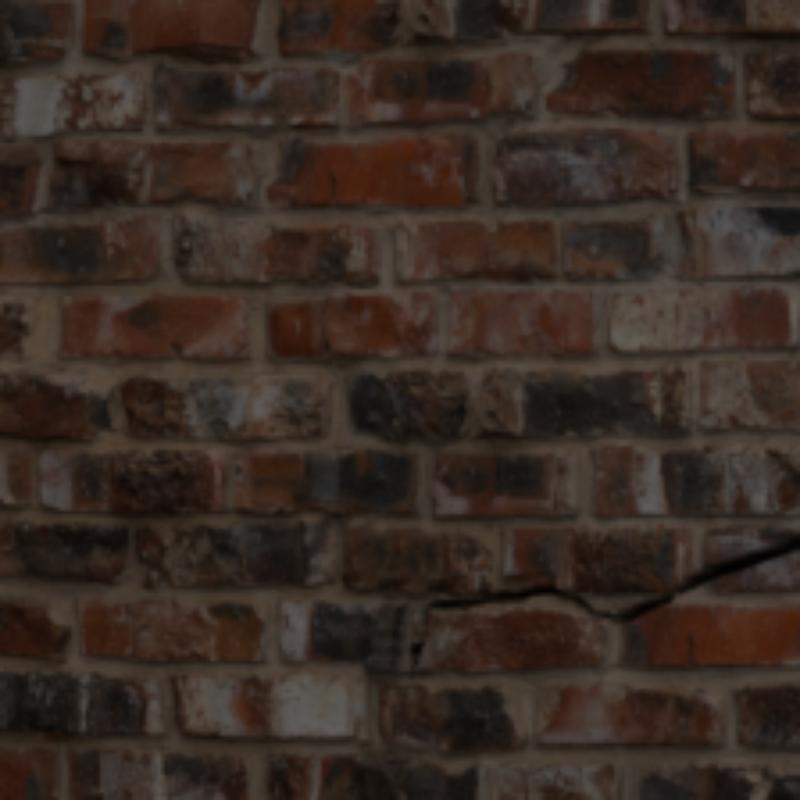pothole: (407, 536, 796, 679)
